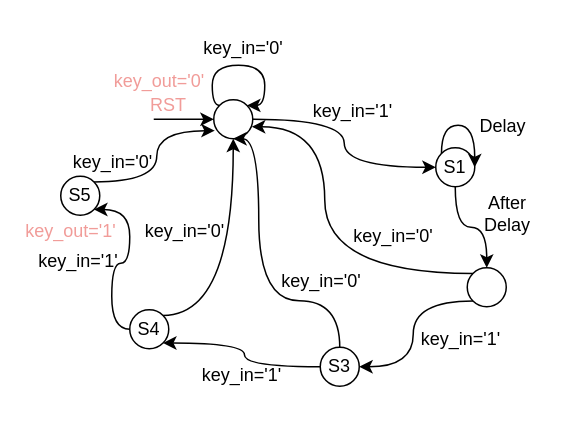
Image size: 578x423. Some labels were removed from this diagram. The box of each missing label's shape, as (x1, y1, x2, y2) in pixels:
S0: (212, 98, 253, 139)
S2: (466, 266, 506, 307)
